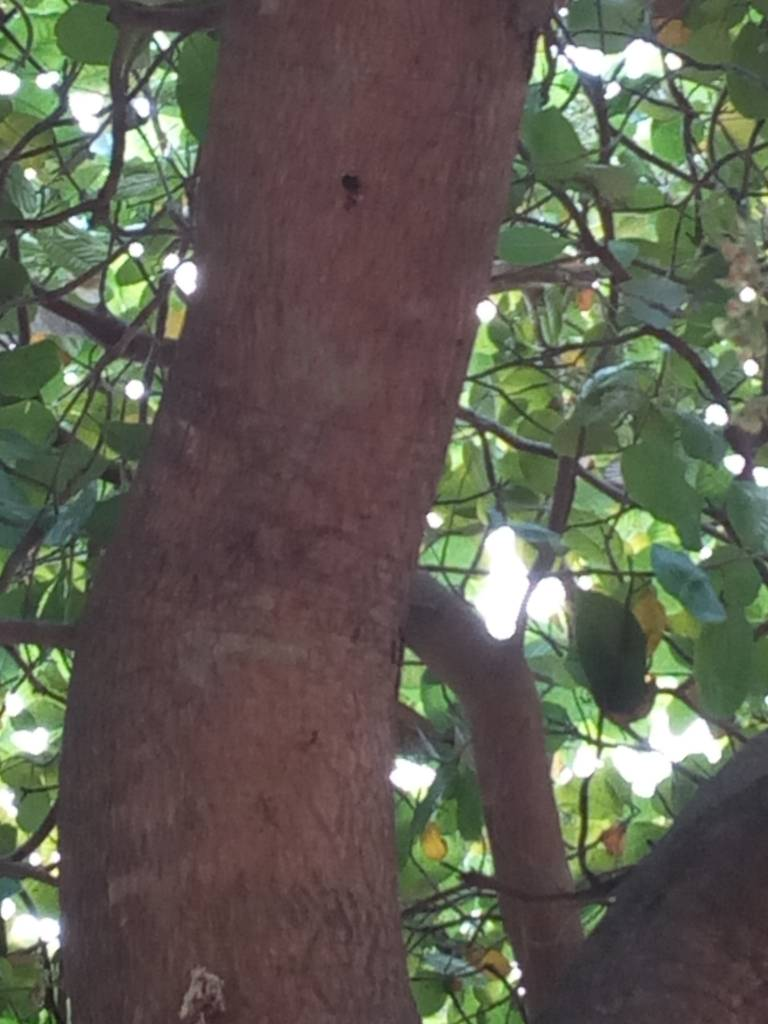Apate terebrans: (333, 166, 374, 211)
